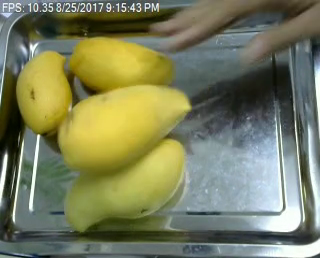Mango: (55, 79, 189, 174), (60, 137, 187, 234), (69, 34, 179, 99), (8, 47, 72, 136)
